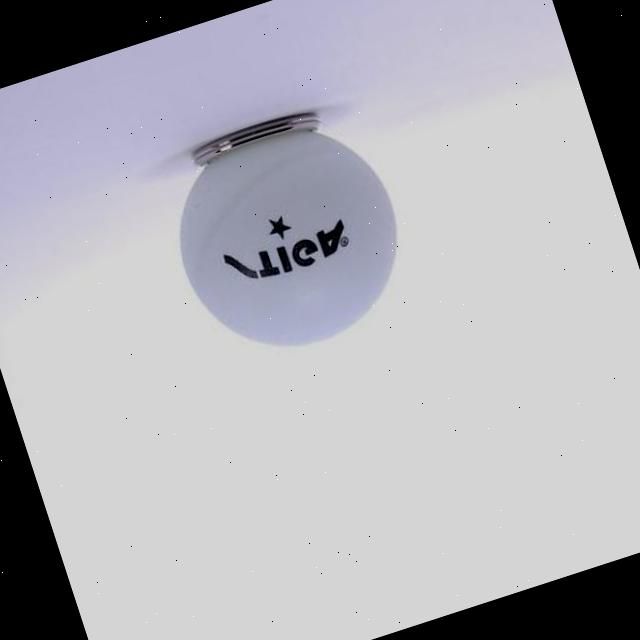ping-pong-ball: (144, 96, 428, 380)
